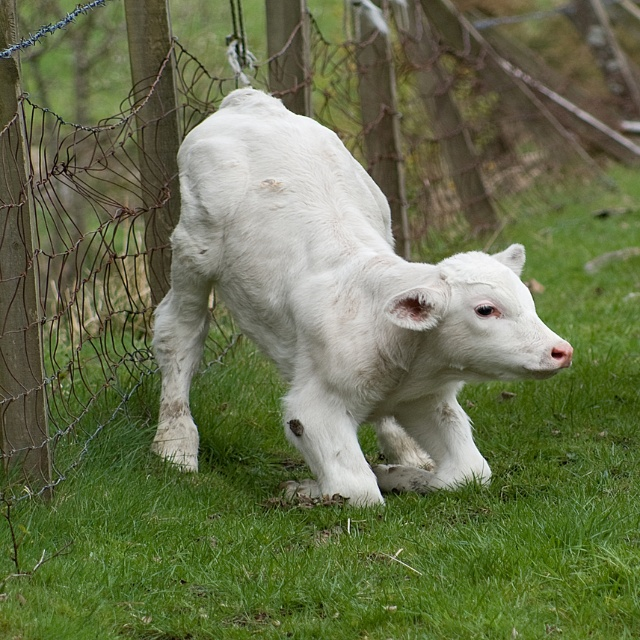Cattle: (149, 88, 574, 509)
